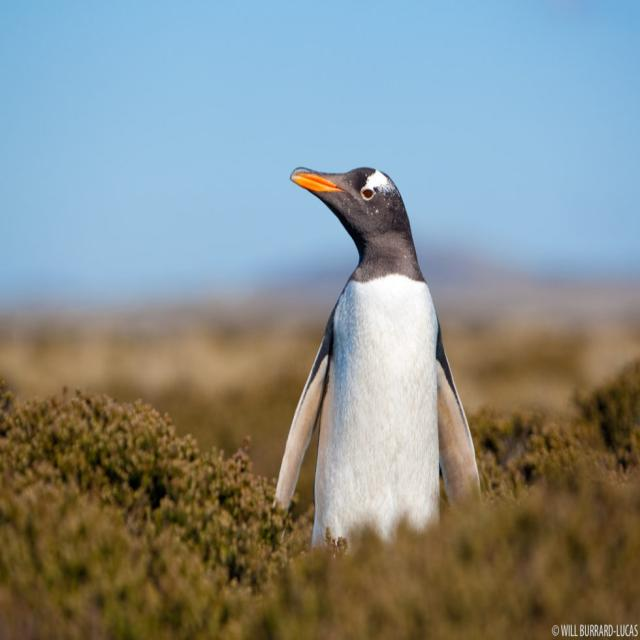Penguins: (281, 150, 478, 543)
